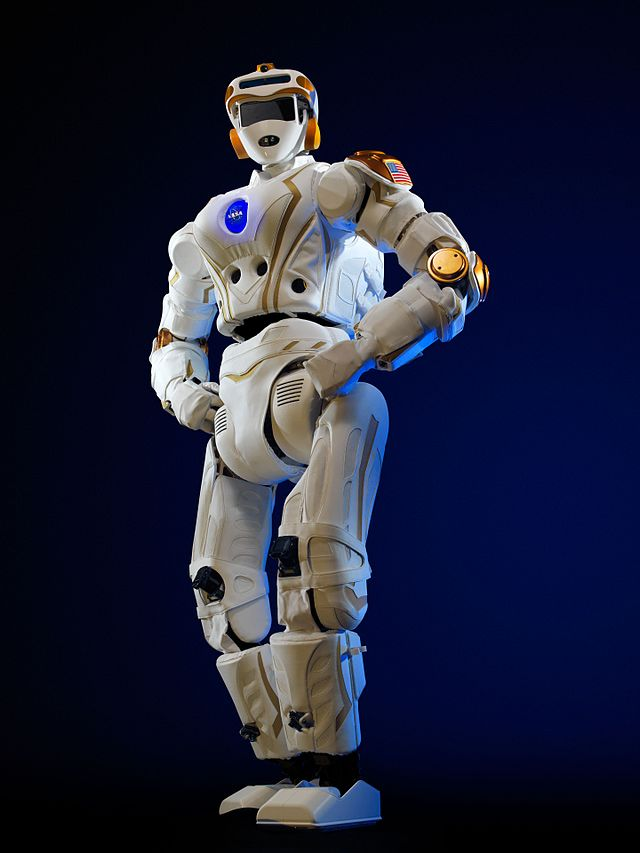person-like: (139, 58, 500, 837)
